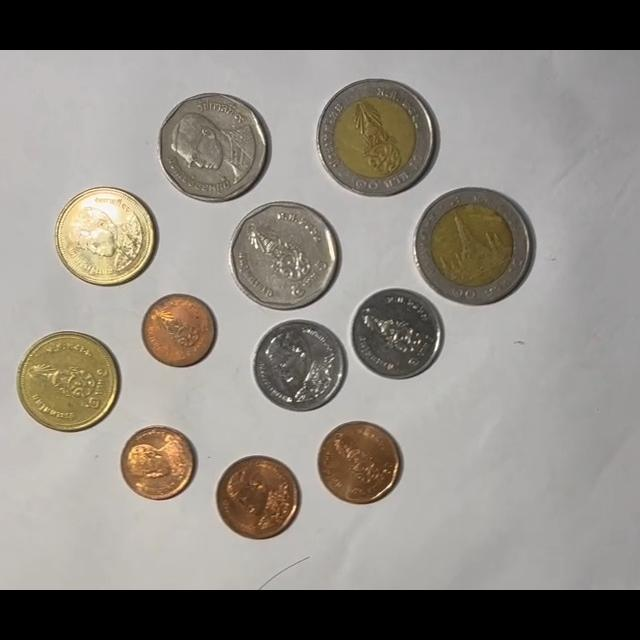1-baht: (351, 288, 445, 381), (252, 319, 345, 412)
10-baht: (317, 78, 437, 197), (414, 188, 532, 306)
2-baht: (17, 331, 120, 433), (55, 187, 155, 288)
25-satang: (120, 426, 197, 501), (141, 294, 216, 367)
5-baht: (158, 92, 270, 204), (229, 201, 340, 311)
50-satang: (215, 455, 301, 540), (317, 422, 402, 505)
